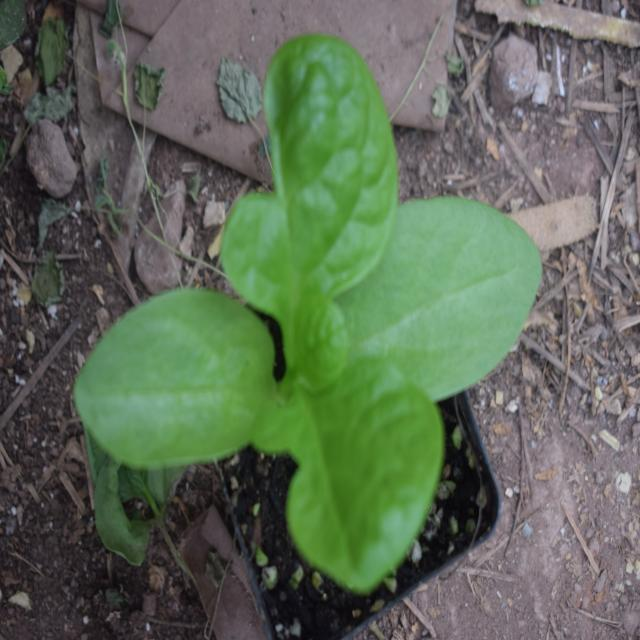Ceylon spinach: (118, 119, 534, 581)
